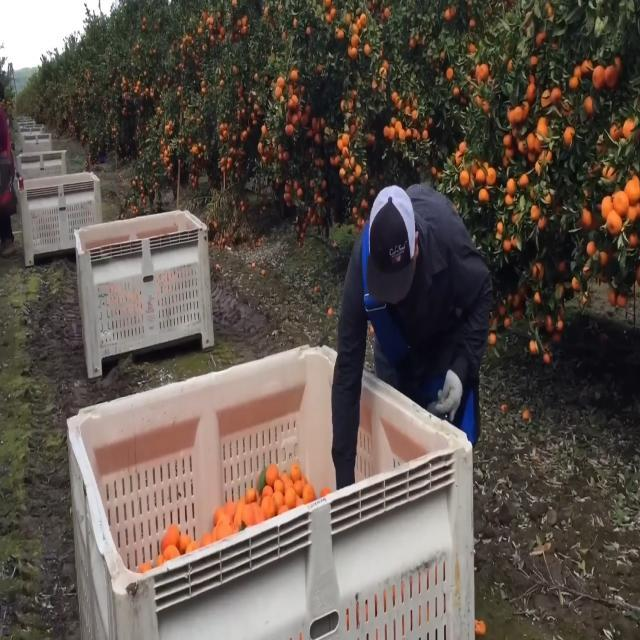Jeruk Sudah Matang: (613, 190, 632, 214), (592, 62, 606, 94), (601, 194, 615, 218), (485, 163, 498, 186), (550, 85, 564, 106), (564, 125, 576, 149), (608, 286, 618, 310), (599, 249, 612, 267), (618, 290, 628, 312), (458, 167, 468, 187), (514, 105, 524, 125), (478, 187, 488, 205), (480, 64, 490, 82), (459, 140, 469, 156), (506, 180, 516, 196), (290, 68, 300, 84), (474, 167, 484, 182), (531, 204, 540, 220), (285, 123, 294, 137), (275, 86, 283, 98)
